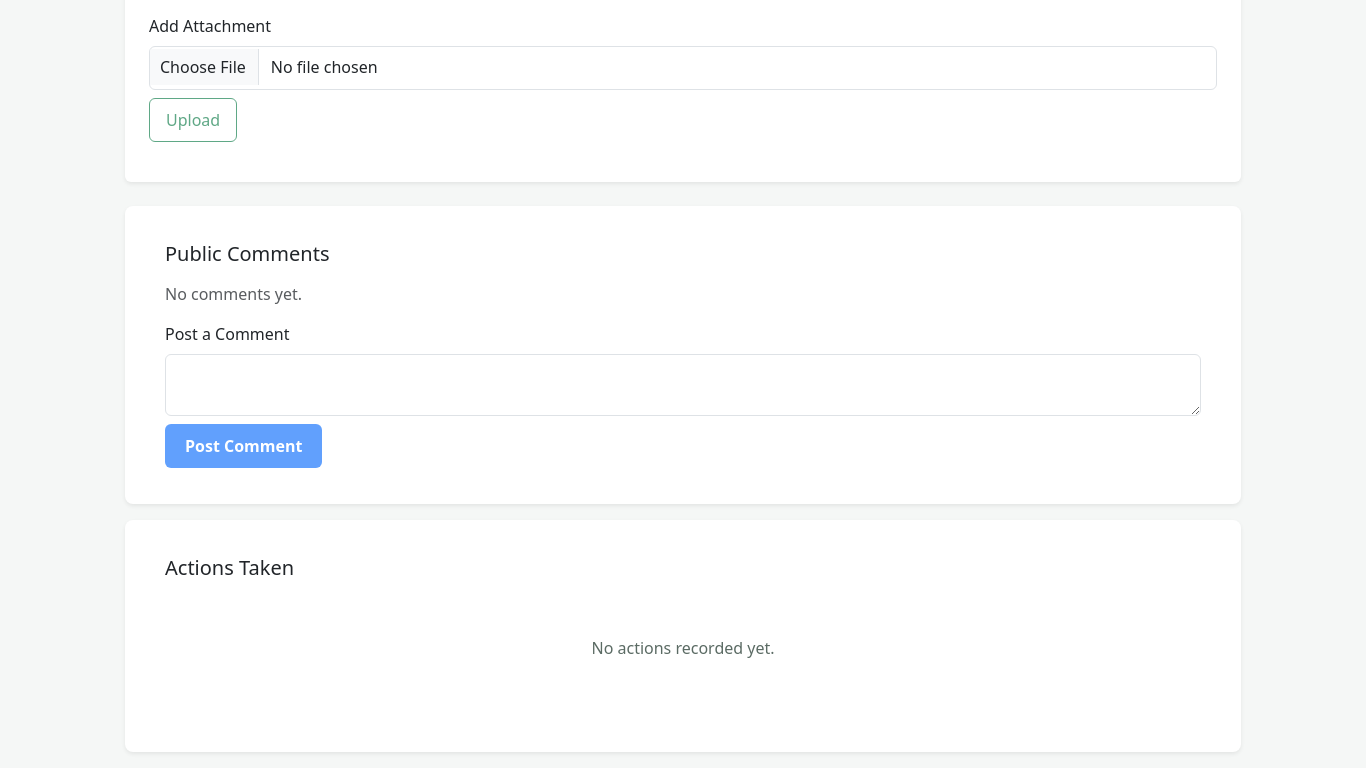
TicketDetail › posts a new Public Comment and shows it in the list
(page scrolled)
Type "Any update?" into the text box labelled "Post a Comment" at [683, 385], box [165, 354, 1201, 416]
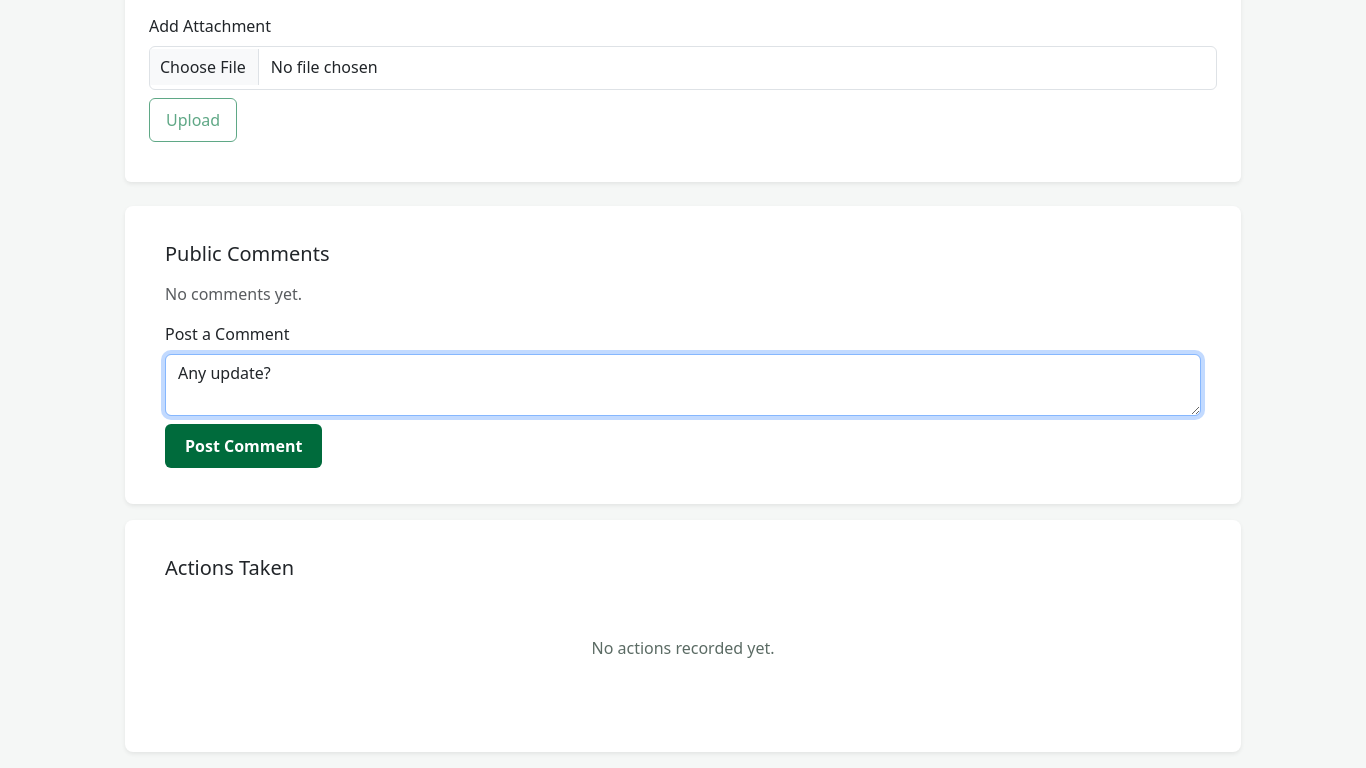
Click the button "Post Comment" at [244, 446], box [165, 424, 322, 468]
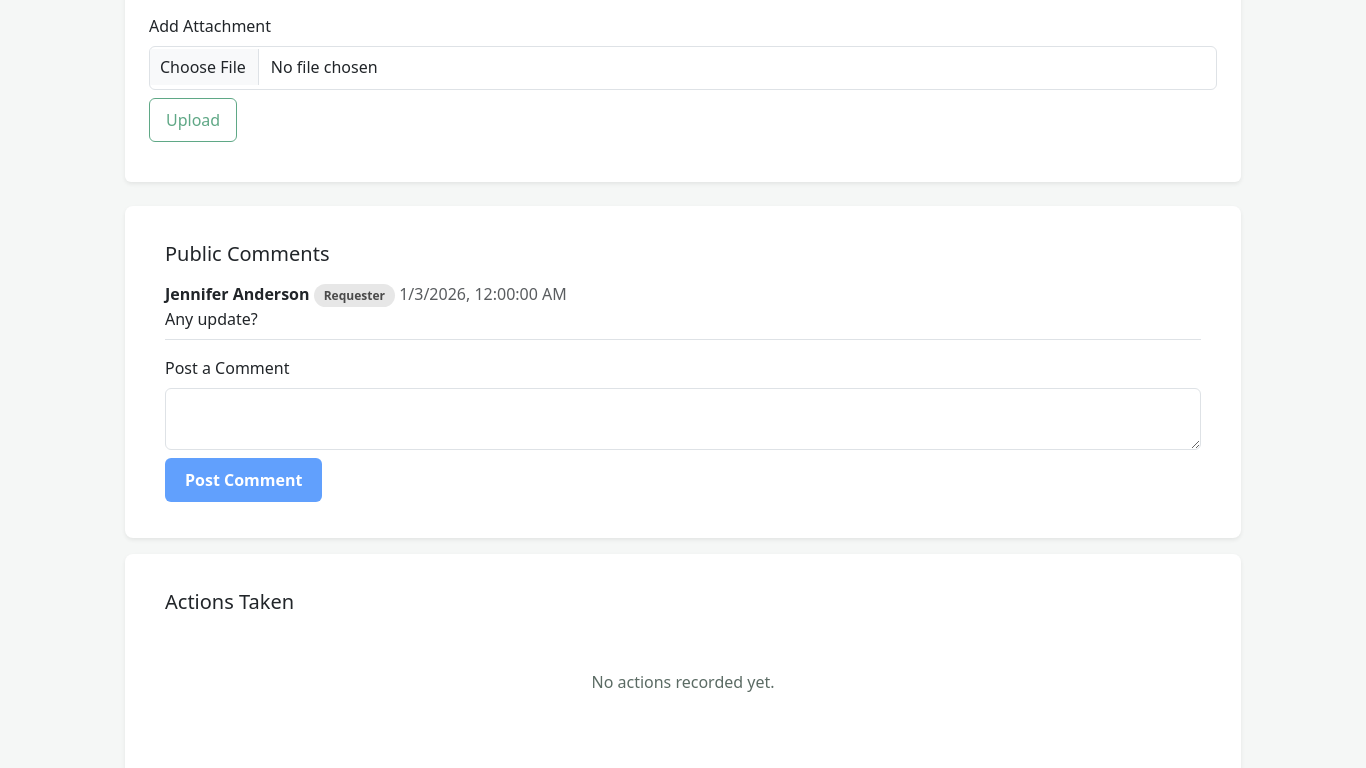
expect the text "Any update?" is shown: met, box [165, 308, 258, 330]
